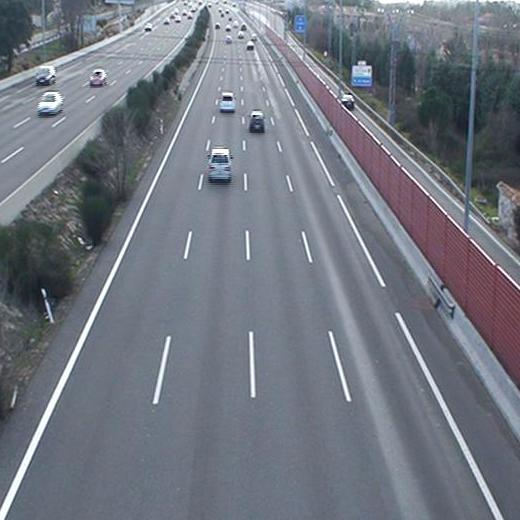car: (205, 149, 235, 182), (247, 110, 267, 135), (218, 92, 237, 112)
